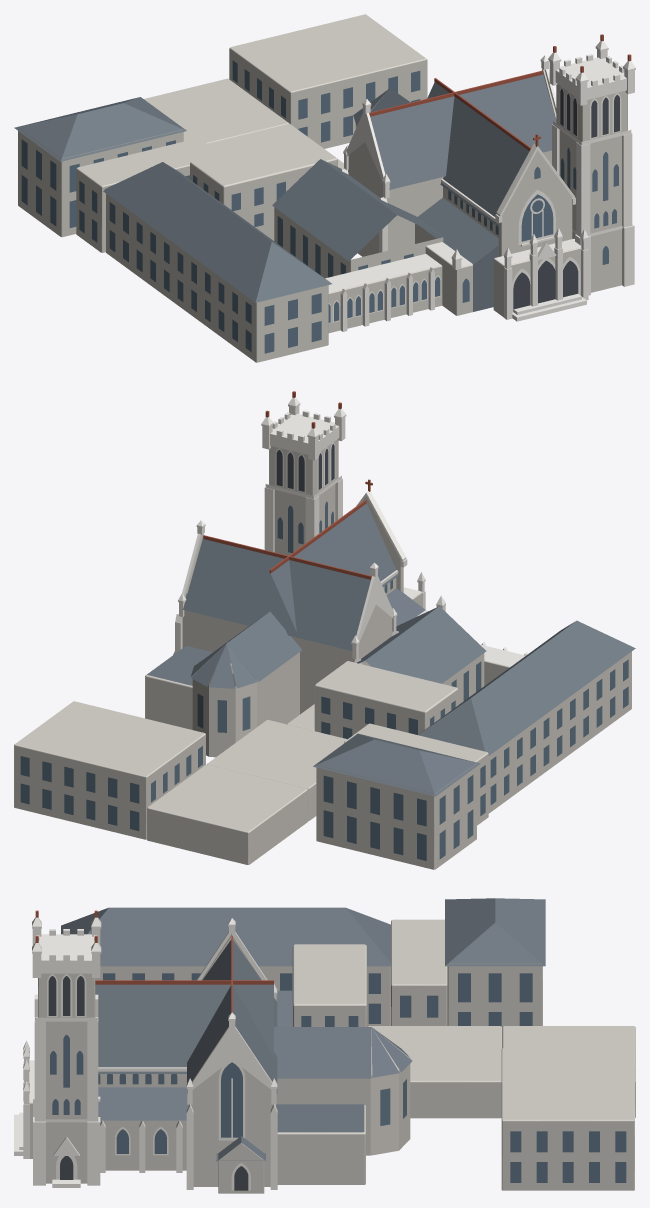
Rendered from nola-christ-church-cathedral.glb.
The picture shows the model from 3 angles, top to bottom: view 1: azimuth 30°, elevation 25°; view 2: azimuth 150°, elevation 25°; view 3: azimuth 270°, elevation 25°; orthographic projection. The views are drawn at different scales.
Parts seen in each view (by area): view 1: Christ Church Cathedral; view 2: Christ Church Cathedral; view 3: Christ Church Cathedral.
Boxes of the visible parts, <box> form: Christ Church Cathedral: <box>14,14,635,362</box>; Christ Church Cathedral: <box>14,391,635,869</box>; Christ Church Cathedral: <box>14,898,635,1193</box>.
Bounding box in the file's own units: 56.5 × 30.9 × 70.3.
